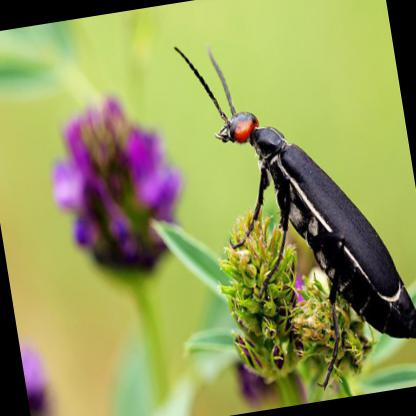blister beetle: (173, 47, 416, 386)
